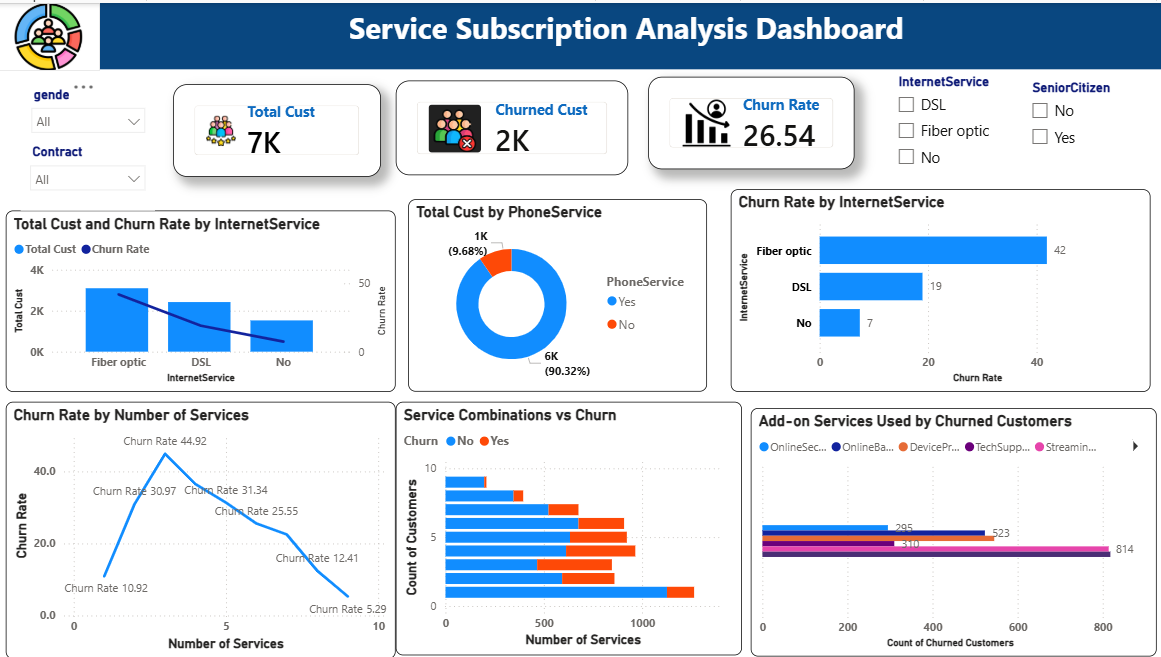

The dashboard page shown, as its layout file describes it:
{"tool":"powerbi","page":{"name":"Page 2","canvas":[1280,720],"ordinal":0},"visuals":[{"type":"donutChart","fields":{"Category":["CustomerChurn.PhoneService"],"Y":["CustomerChurn.Total Customers"]},"box":[451.5,215.4,328,211.3],"z":0},{"type":"clusteredBarChart","fields":{"Category":["CustomerChurn.InternetService"],"Y":["CustomerChurn.Churn Rate"]},"box":[805.5,204.5,461.1,222.3],"z":1000},{"type":"clusteredBarChart","title":"Add-on Services Used by Churned Customers","fields":{"Y":["CustomerChurn.OnlineSecurity Churned","CustomerChurn.OnlineBackup Churned","CustomerChurn.DeviceProtection Churned","CustomerChurn.TechSupport Churned","CustomerChurn.StreamingTV Churned","CustomerChurn.StreamingMovies Churned"]},"box":[451.5,437.7,432.2,282.7],"z":2000},{"type":"lineChart","fields":{"Category":["CustomerChurn.Number of Services"],"Y":["CustomerChurn.Churn Rate"]},"box":[9.6,437.7,428.1,282.7],"z":3000},{"type":"tableEx","title":"Service Combinations vs Churn","fields":{"Values":["CustomerChurn.Number of Services","CustomerChurn.Total Cust","CustomerChurn.Churn"]},"box":[898.8,437.8,381.5,282.5],"z":4000},{"type":"lineClusteredColumnComboChart","fields":{"Category":["CustomerChurn.InternetService"],"Y":["CustomerChurn.Total Customers"],"Y2":["CustomerChurn.Churn Rate"]},"box":[9.6,227.8,428.1,199],"z":5000},{"type":"slicer","fields":{"Values":["CustomerChurn.gender"]},"box":[27.4,86.4,145.5,74.1],"z":6000},{"type":"slicer","fields":{"Values":["CustomerChurn.SeniorCitizen"]},"box":[1123.8,79.6,142.7,102.9],"z":7000},{"type":"slicer","fields":{"Values":["CustomerChurn.InternetService"]},"box":[977,72.7,146.8,118],"z":8000},{"type":"slicer","fields":{"Values":["CustomerChurn.Contract"]},"box":[26.1,149.6,146.8,65.9],"z":9000},{"type":"cardVisual","fields":{"Data":["CustomerChurn.Total Customers"]},"box":[193.5,86.4,227.8,104.3],"z":10000},{"type":"cardVisual","fields":{"Data":["CustomerChurn.Churned Customers"]},"box":[437.7,85.1,255.2,104.3],"z":11000},{"type":"cardVisual","fields":{"Data":["CustomerChurn.Churn Rate"]},"box":[725.9,85.1,226.4,101.5],"z":12000},{"type":"textbox","box":[98.8,0,1181.5,72.7],"z":13000},{"type":"image","box":[0,0,112.5,74.1],"z":14000}]}

Visuals, with their boxes in screenshot pixels (x1, y1, x2, y2), scaled from the page's 1280x720 canvas onto the 1161x657 screenshot:
donutChart - CustomerChurn.PhoneService x CustomerChurn.Total Customers: detection(410, 197, 707, 389)
clusteredBarChart - CustomerChurn.InternetService x CustomerChurn.Churn Rate: detection(731, 187, 1149, 389)
"Add-on Services Used by Churned Customers" clusteredBarChart: detection(410, 399, 802, 656)
lineChart - CustomerChurn.Number of Services x CustomerChurn.Churn Rate: detection(9, 399, 397, 656)
"Service Combinations vs Churn" tableEx: detection(815, 399, 1160, 656)
lineClusteredColumnComboChart - CustomerChurn.InternetService x CustomerChurn.Total Customers: detection(9, 208, 397, 389)
slicer - CustomerChurn.gender: detection(25, 79, 157, 146)
slicer - CustomerChurn.SeniorCitizen: detection(1019, 73, 1149, 167)
slicer - CustomerChurn.InternetService: detection(886, 66, 1019, 174)
slicer - CustomerChurn.Contract: detection(24, 137, 157, 197)
cardVisual - CustomerChurn.Total Customers: detection(176, 79, 382, 174)
cardVisual - CustomerChurn.Churned Customers: detection(397, 78, 628, 173)
cardVisual - CustomerChurn.Churn Rate: detection(658, 78, 864, 170)
textbox: detection(90, 0, 1160, 66)
image: detection(0, 0, 102, 68)
